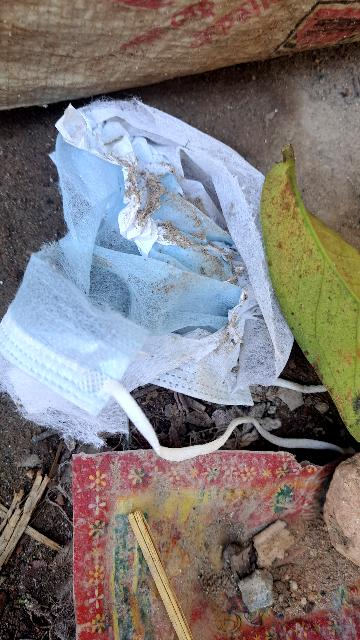mask: (0, 96, 340, 440)
